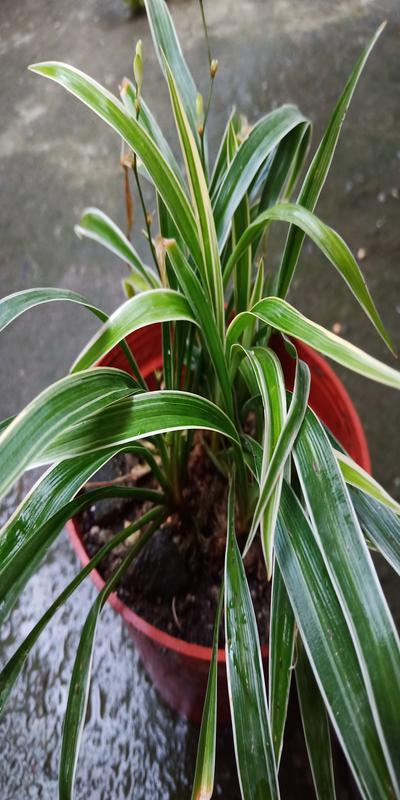Yellow and green leaf: (23, 69, 389, 598)
